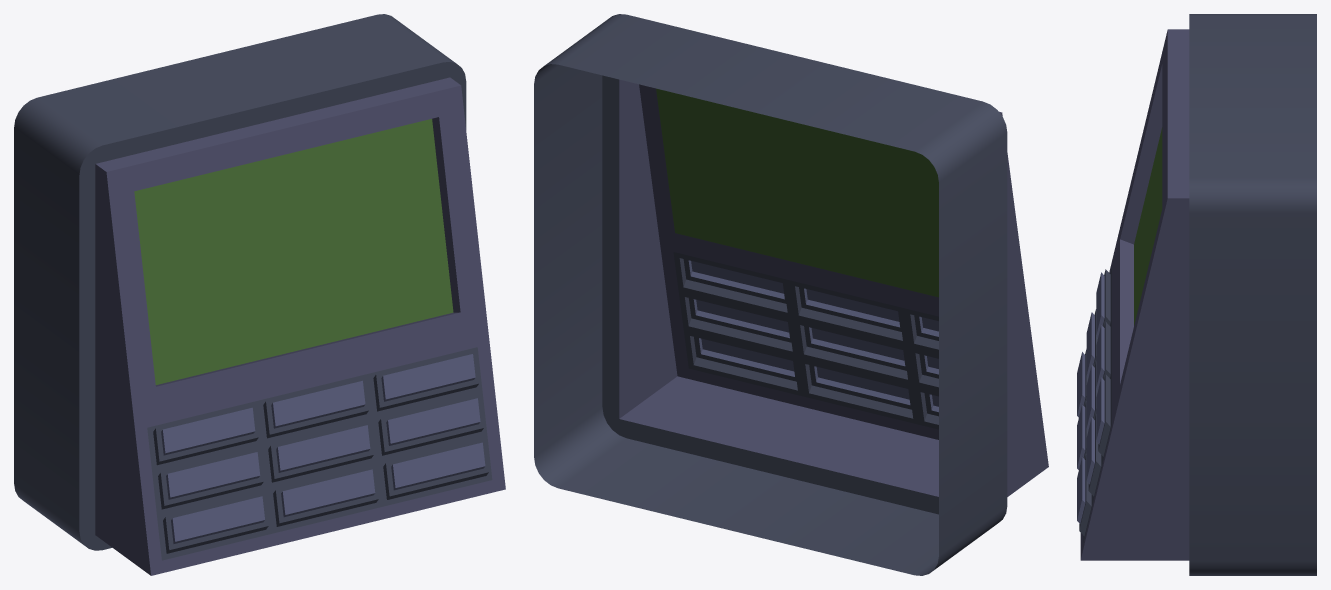
File: DigiCode.fbx
3 views of the same model, side by side, from view 1: azimuth 30°, elevation 25°; view 2: azimuth 150°, elevation 25°; view 3: azimuth 270°, elevation 25° (orthographic). The views are drawn at different scales.
Visible parts, largest first — view 1: Cube.035; view 2: Cube.035; view 3: Cube.035.
Part boxes in pixels (<box>): Cube.035: <box>14,14,505,575</box>; Cube.035: <box>534,14,1048,575</box>; Cube.035: <box>1077,14,1316,575</box>.
Bounding box in the file's own units: 71.5 × 71.5 × 39.33.
